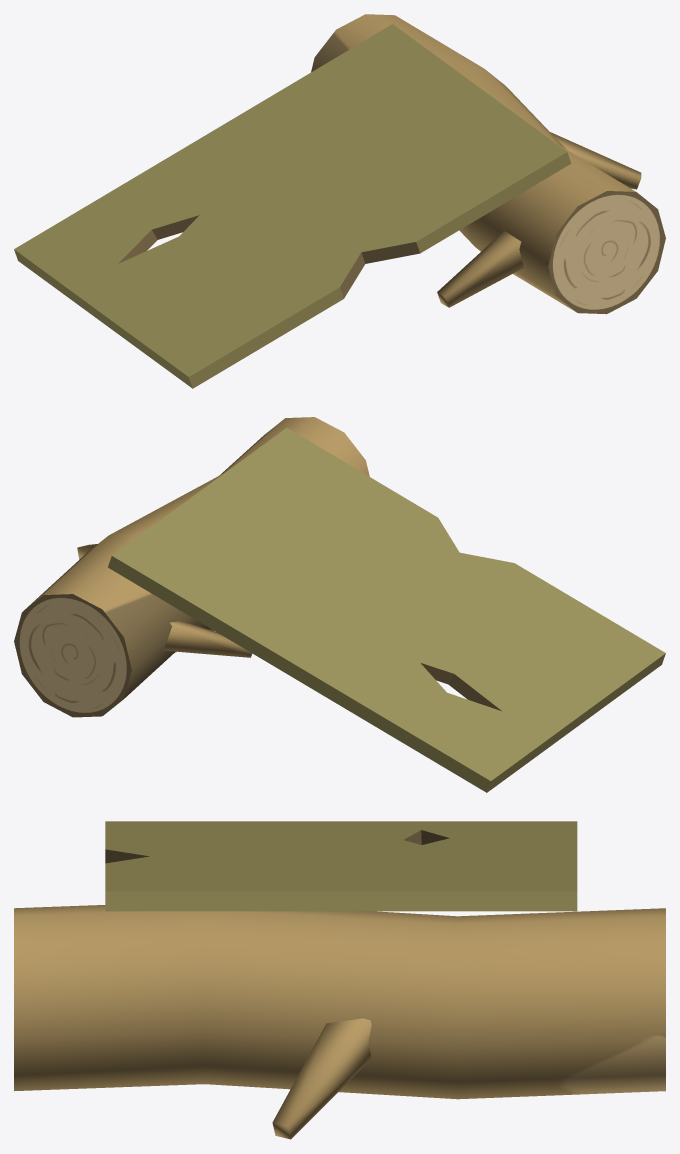
The model's file is springboard_forest.fbx.
3 views of the same model, one above another, from view 1: azimuth 30°, elevation 25°; view 2: azimuth 150°, elevation 25°; view 3: azimuth 270°, elevation 25° (orthographic). The views are drawn at different scales.
Visible parts, largest first — view 1: springboard_forest; view 2: springboard_forest; view 3: springboard_forest.
Part boxes in pixels (bbox=[...]): springboard_forest: bbox=[14, 14, 665, 388]; springboard_forest: bbox=[14, 417, 665, 792]; springboard_forest: bbox=[14, 821, 665, 1139].
Size of the model in its own units: 385 by 103 by 309.
